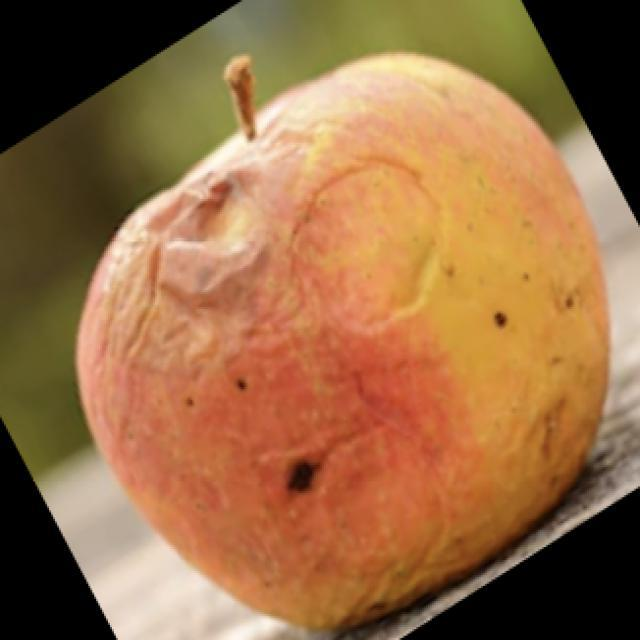Rotten: (92, 50, 615, 615)
